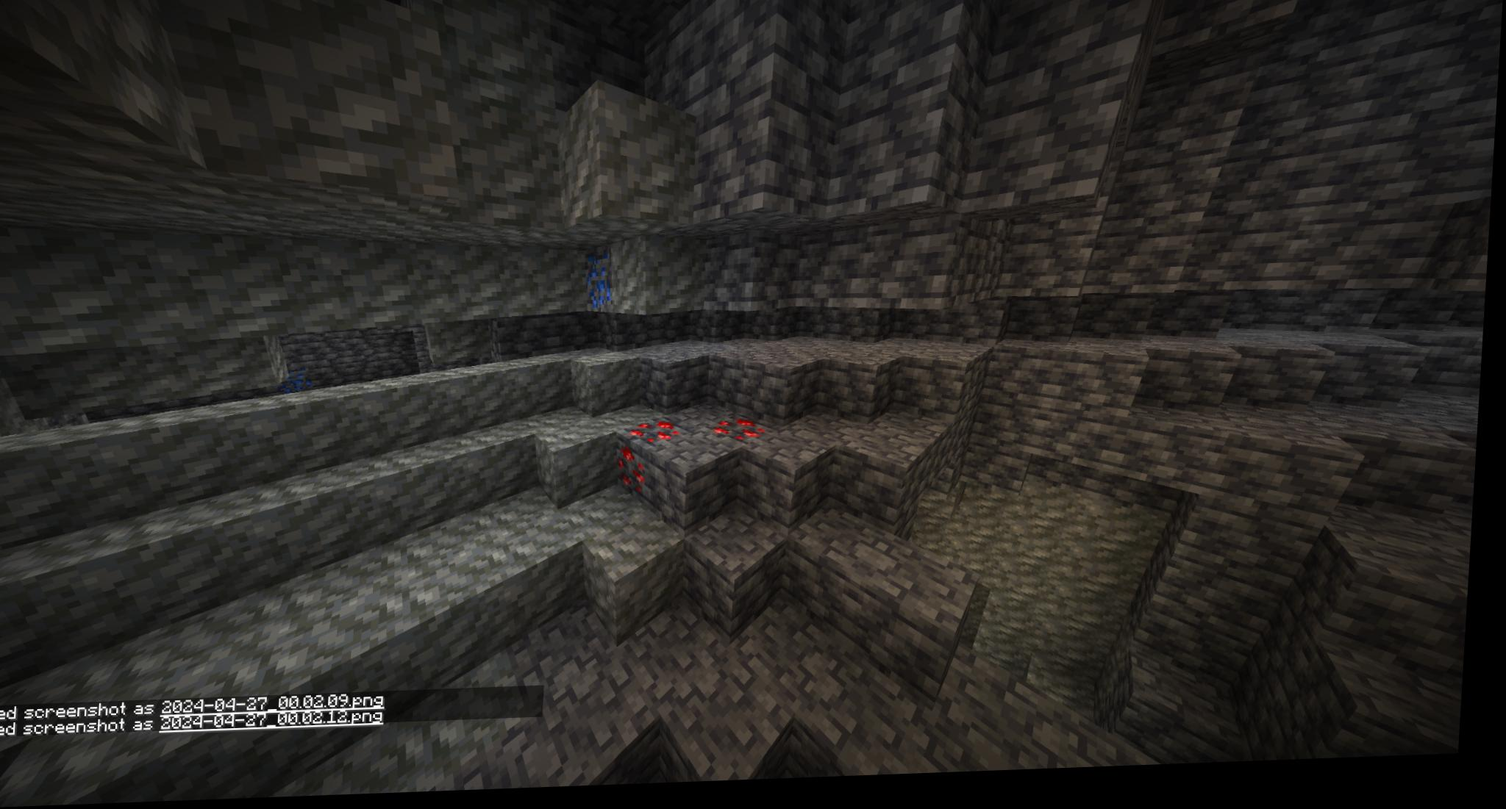redstone ore: (621, 423, 689, 503), (717, 421, 767, 454)
